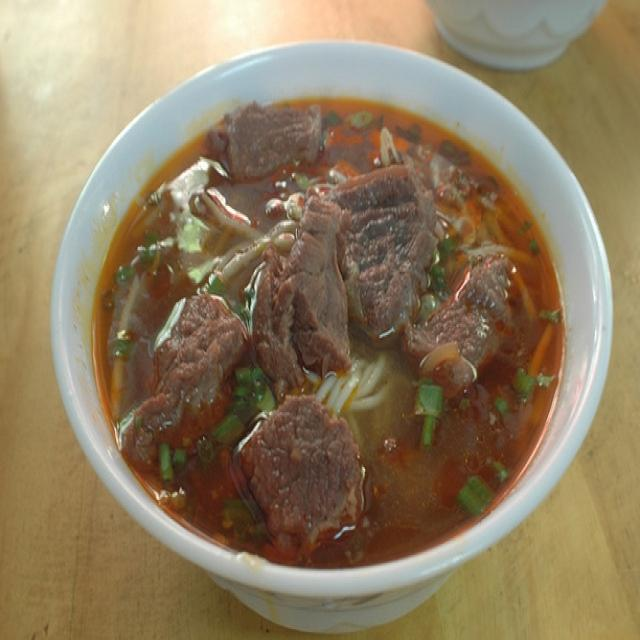面条主食: (60, 48, 592, 594)
